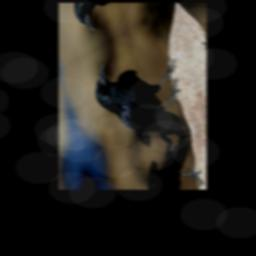Crow: (88, 26, 193, 174)
